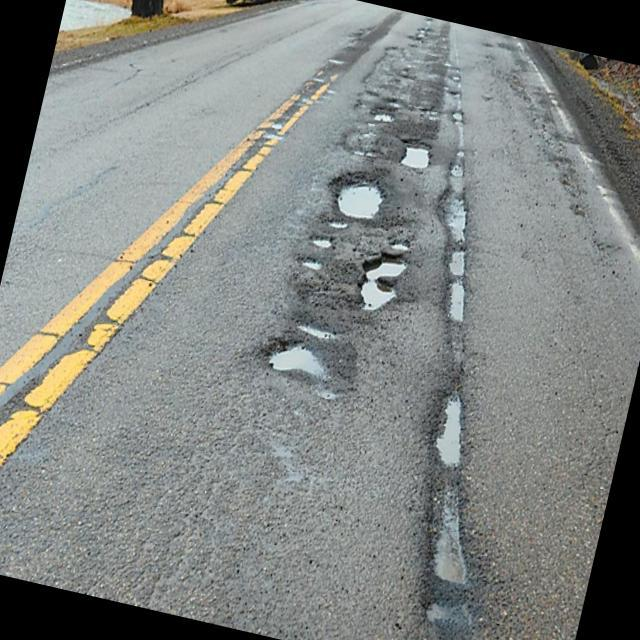Pothole: (244, 294, 342, 384), (359, 227, 435, 314), (322, 166, 398, 232), (388, 130, 442, 183), (294, 258, 338, 300), (333, 141, 383, 173), (408, 14, 436, 54), (417, 108, 462, 131), (360, 100, 391, 128), (301, 233, 334, 259), (322, 224, 354, 242)
